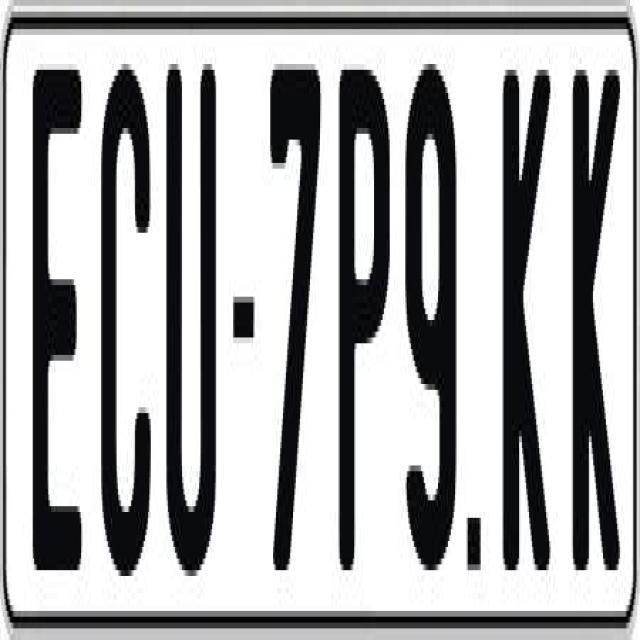7: (266, 70, 317, 594)
9: (404, 52, 459, 558)
C: (96, 70, 152, 588)
E: (29, 52, 82, 553)
K: (573, 58, 620, 588), (504, 58, 550, 588)
P: (338, 52, 392, 564)
U: (164, 58, 223, 599)
